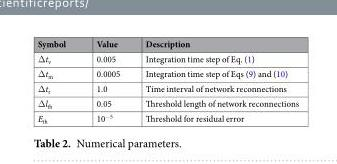table: (36, 37, 298, 124)
table column: (132, 37, 298, 124), (80, 37, 132, 124), (36, 37, 80, 124)
table column header: (36, 37, 298, 50)
table row: (36, 50, 298, 66), (36, 80, 298, 95), (36, 95, 298, 110), (36, 66, 298, 80), (36, 110, 298, 124), (36, 37, 298, 50)
